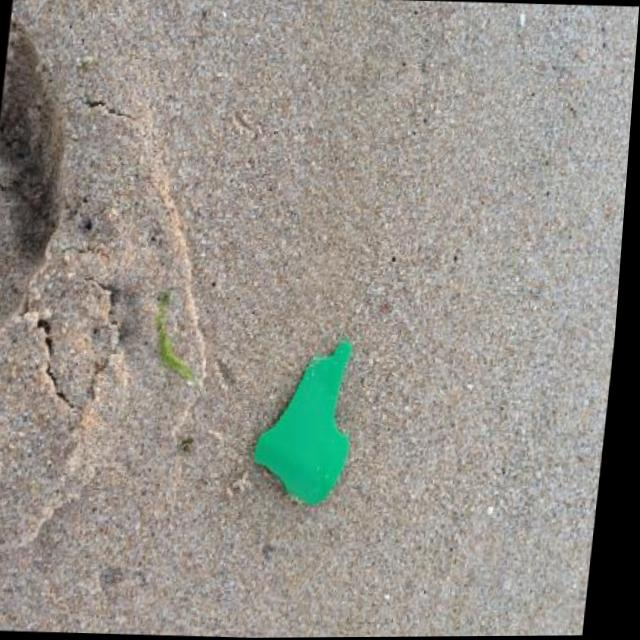plastic: (247, 334, 360, 507)
